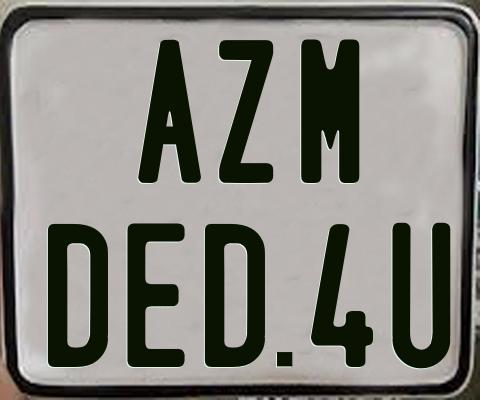4: (310, 224, 378, 370)
A: (137, 40, 205, 186)
D: (202, 221, 267, 367), (48, 221, 112, 369)
E: (126, 222, 185, 372)
M: (299, 39, 363, 189)
U: (389, 223, 449, 372)
Z: (217, 39, 277, 185)
